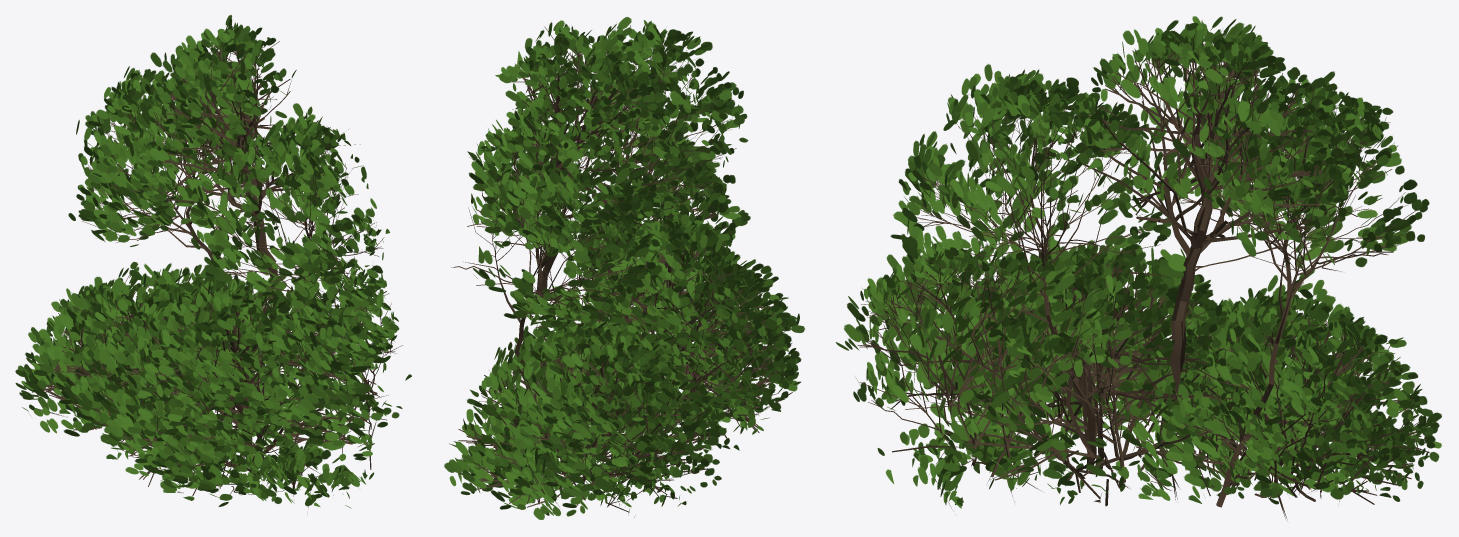
The picture shows the model from 3 angles, left to right: view 1: azimuth 30°, elevation 25°; view 2: azimuth 150°, elevation 25°; view 3: azimuth 270°, elevation 25°; orthographic projection. The views are drawn at different scales.
Visible parts, largest first — view 1: oak 01.001_trunk_Mat.001_0.364; view 2: oak 01.001_trunk_Mat.001_0.364; view 3: oak 01.001_trunk_Mat.001_0.364.
Boxes of the visible parts, <box> form: oak 01.001_trunk_Mat.001_0.364: <box>15,15,411,508</box>; oak 01.001_trunk_Mat.001_0.364: <box>444,17,804,519</box>; oak 01.001_trunk_Mat.001_0.364: <box>835,16,1441,519</box>.
Size of the model in its own units: 2.81 by 4.7 by 5.28.
2 materials, 1 textured.
